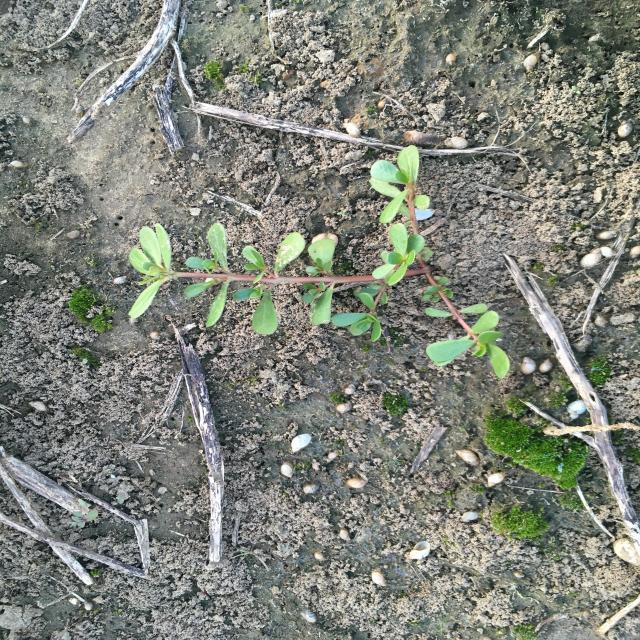Purslane: (125, 144, 512, 383)
